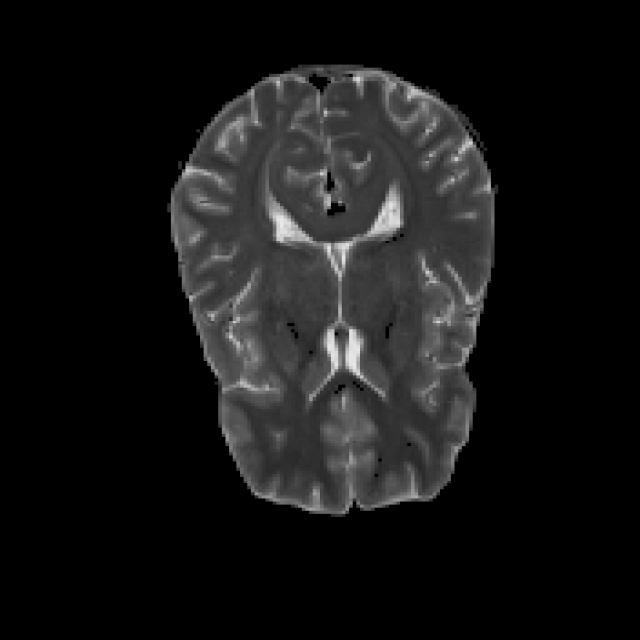CONTROL: (167, 61, 495, 514)
